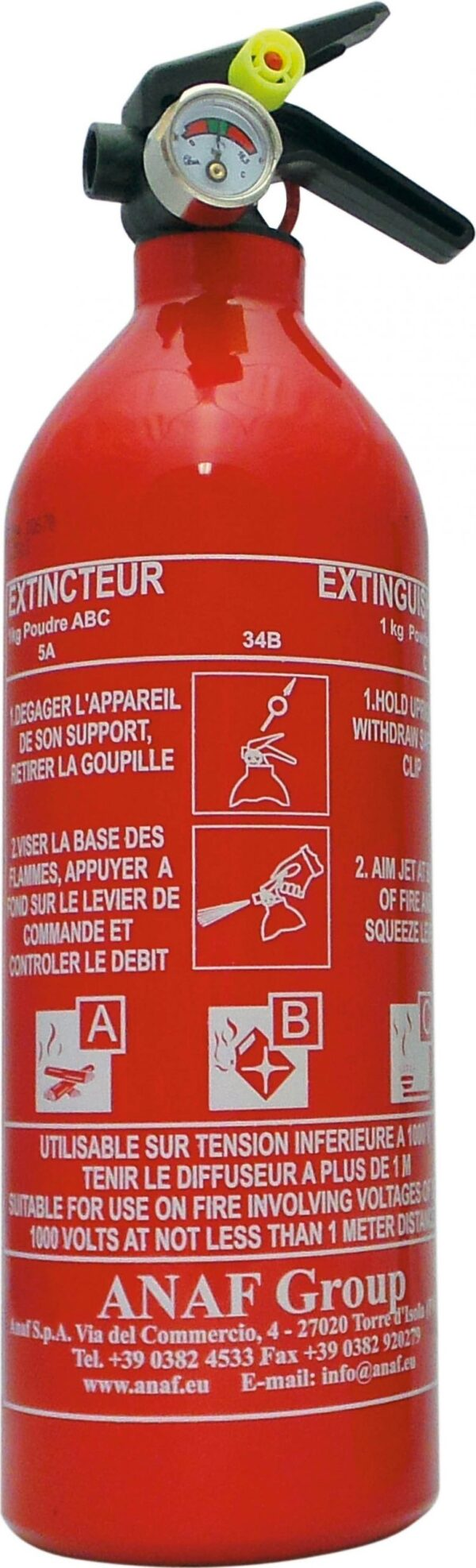Extincteur: (92, 658, 183, 1136)
